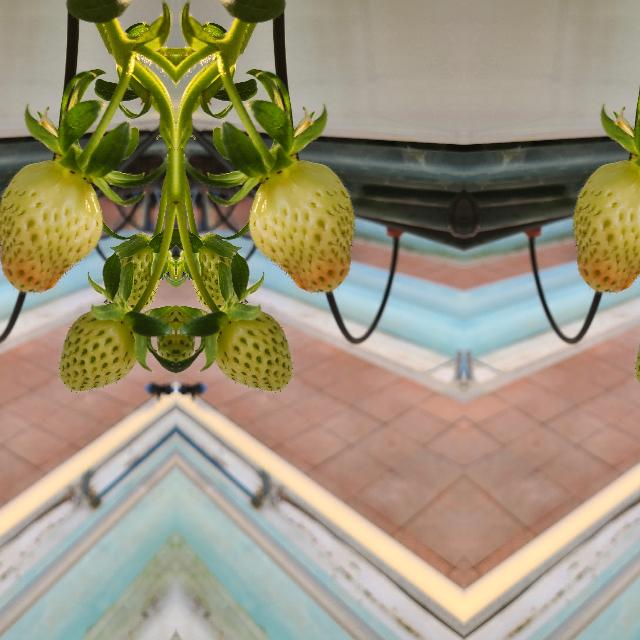Health_25: (212, 304, 296, 394), (54, 304, 138, 394)
Health_50: (248, 160, 354, 292), (0, 160, 101, 291), (572, 160, 640, 291)
